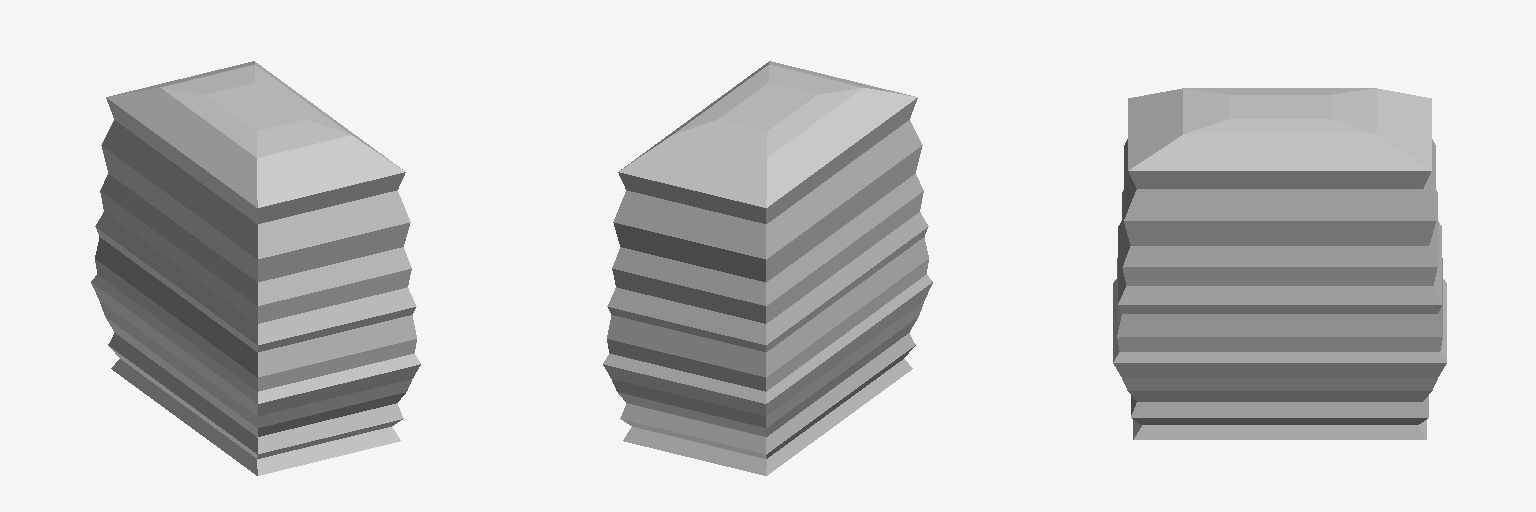
The model's file is rtx3060.obj.
The picture shows the model from 3 angles: view 1: azimuth 30°, elevation 25°; view 2: azimuth 150°, elevation 25°; view 3: azimuth 270°, elevation 25°; orthographic projection.
Visible parts, largest first — view 1: Cube_Cube.001; view 2: Cube_Cube.001; view 3: Cube_Cube.001.
Boxes of the visible parts, <box> form: Cube_Cube.001: <box>91,61,420,475</box>; Cube_Cube.001: <box>603,61,932,475</box>; Cube_Cube.001: <box>1113,88,1446,439</box>.
Size of the model in its own units: 1.37 by 2.39 by 2.43.